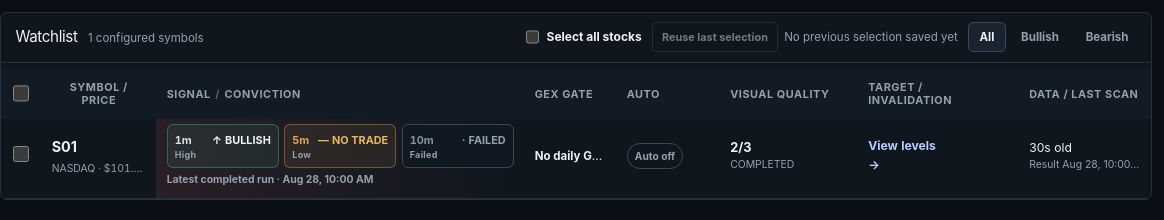
WatchlistTable › matches a raw comparison when any completed interval has the selected direction
The width and height of the screenshot is (1164, 220).
Click the button "Bullish" at x=1040, y=37, box x1=1010 y1=22 x2=1070 y2=52
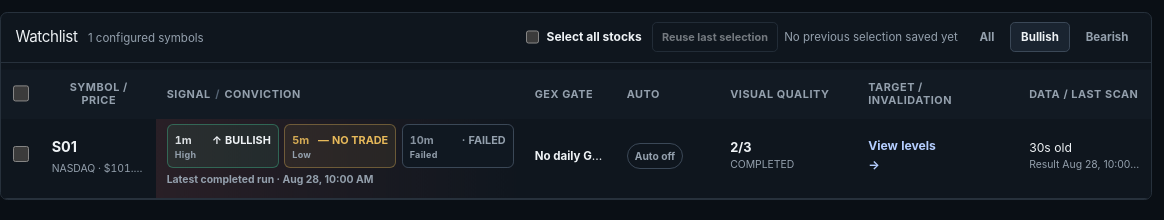
Expected: the row named "Open S01 analysis" is shown, x1=1 y1=114 x2=1151 y2=199
Expected: the element with class "bullish" reads "1m ↑ Bullish high", x1=167 y1=124 x2=279 y2=168
Click the button "Bearish" at x=1107, y=37, box x1=1074 y1=22 x2=1140 y2=52
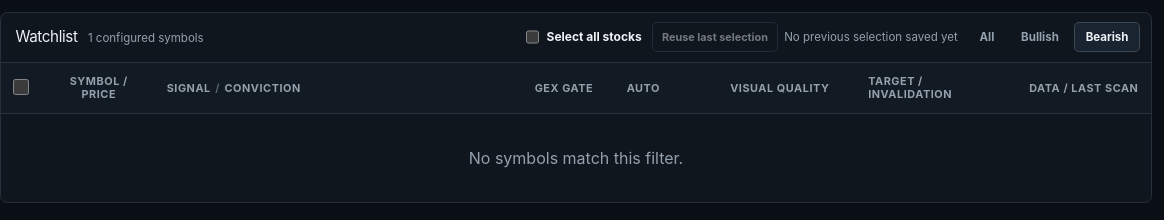
Expected: the number of rows is 1, x1=1 y1=63 x2=1151 y2=114
